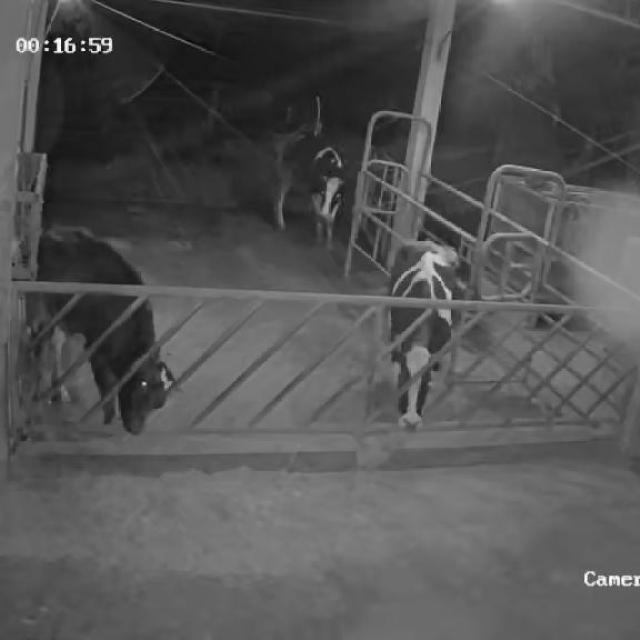standing: (13, 216, 175, 444), (384, 233, 457, 441), (265, 129, 347, 259)
